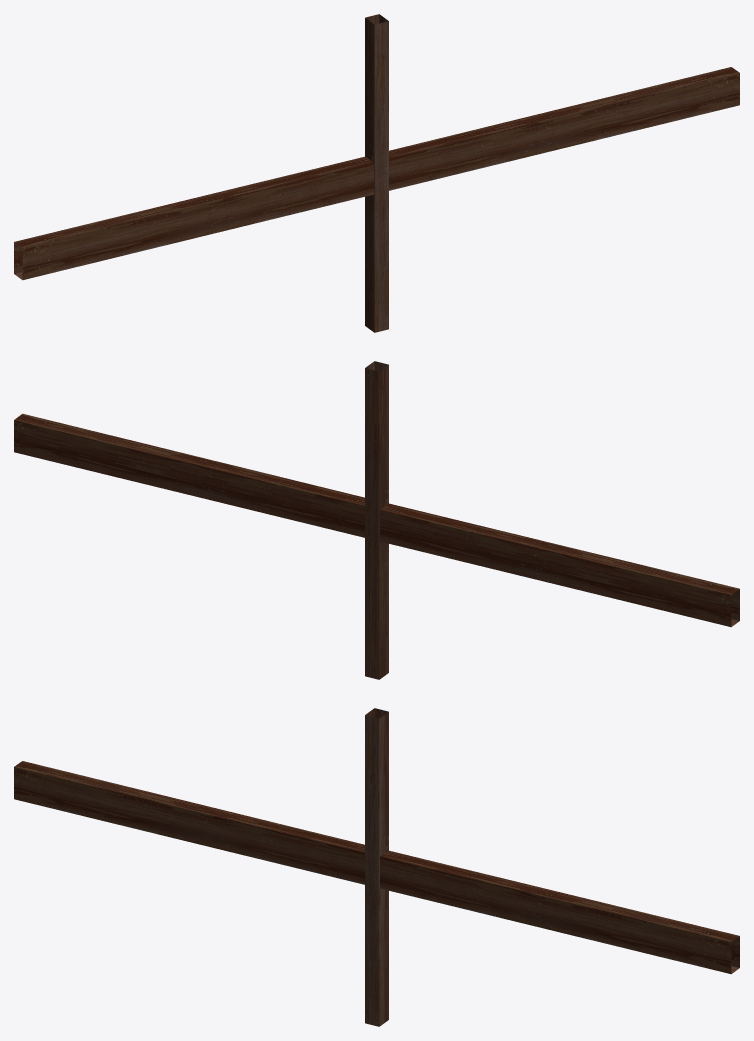
Rendered from beam001.FBX.
3 renders of one model, top to bottom at view 1: azimuth 30°, elevation 25°; view 2: azimuth 150°, elevation 25°; view 3: azimuth 330°, elevation 25°, orthographic.
Parts seen in each view (by area): view 1: home_01_woodenbeam_001, home_01_woodenbeam_002; view 2: home_01_woodenbeam_001, home_01_woodenbeam_002; view 3: home_01_woodenbeam_001, home_01_woodenbeam_002.
Boxes of the visible parts, x1,y1,x2,y2 form: home_01_woodenbeam_001: [14, 67, 739, 280]; home_01_woodenbeam_002: [365, 14, 388, 332]; home_01_woodenbeam_001: [14, 413, 739, 627]; home_01_woodenbeam_002: [365, 361, 388, 679]; home_01_woodenbeam_001: [14, 761, 739, 974]; home_01_woodenbeam_002: [365, 708, 388, 1026].
Size of the model in its own units: 9.47 by 3.89 by 0.2216.
